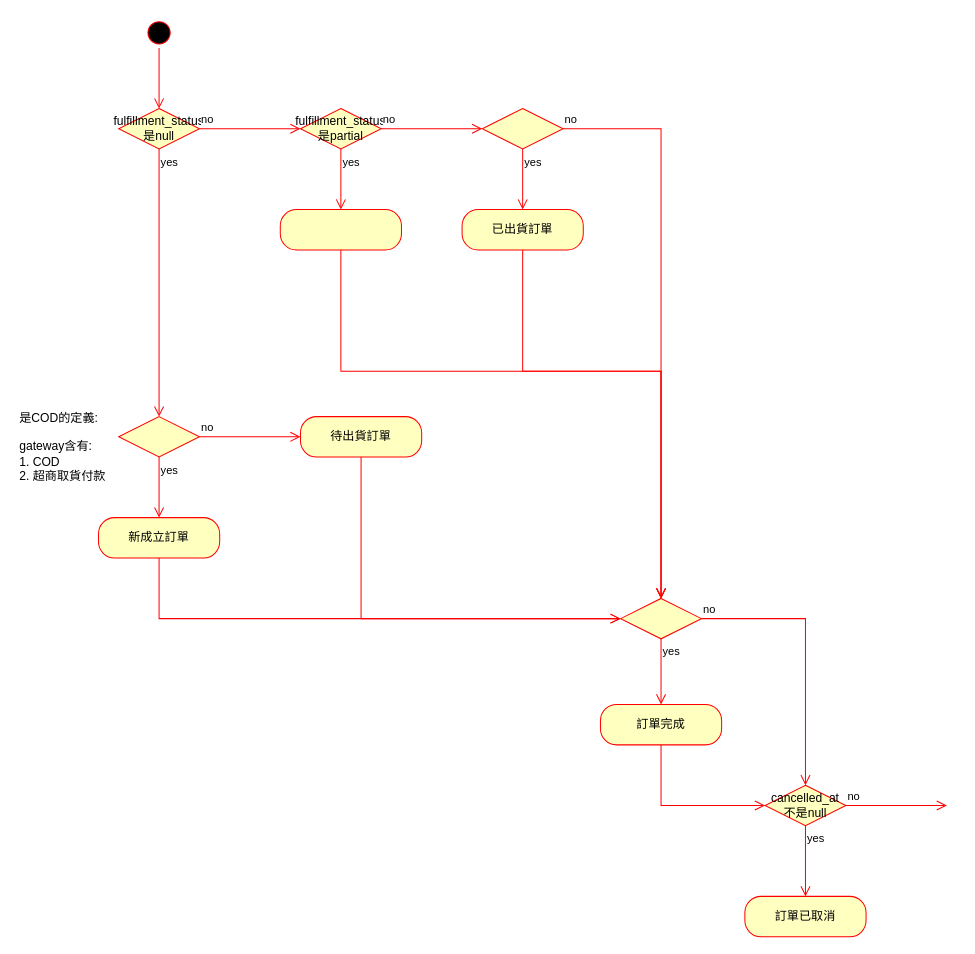
Some shapes in this 975 by 954 pixel diagram are drawn without their labels. The centre of each missing label's shape, as x and y in pixels:
"closed_at 不是null" goes at point 660,618.
"fulfillment_status是fulfilled" goes at point 522,128.
"不是COD且financial_status不是paid" goes at point 158,436.
"出貨準備中訂單" goes at point 340,229.
